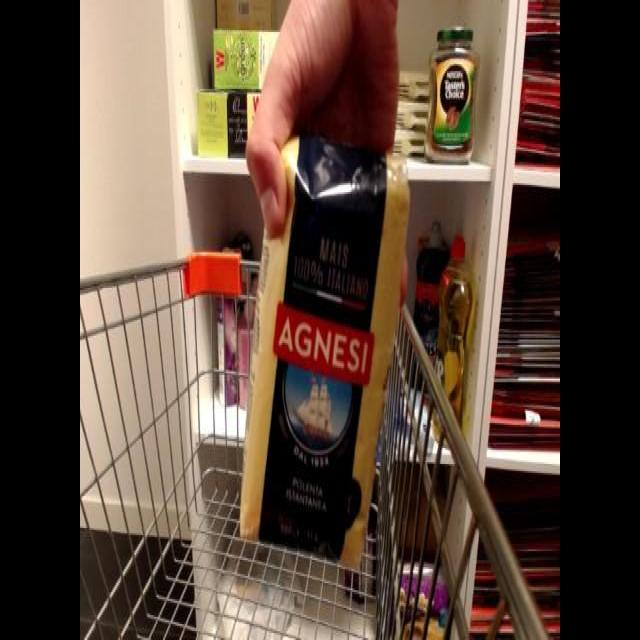Agnesi Polenta: (235, 140, 414, 574)
